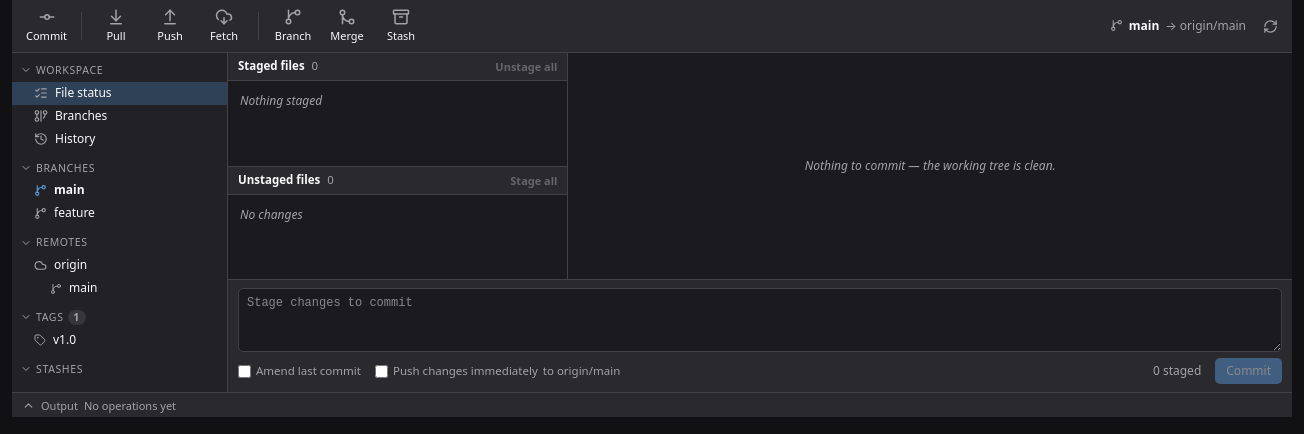
Test case: Repository view: Branches › opens from the sidebar as rails with labels, tip chips and the HEAD ring
The image size is (1304, 434).
Click the button "Branches".
click(120, 116)  # box x1=12 y1=105 x2=227 y2=128
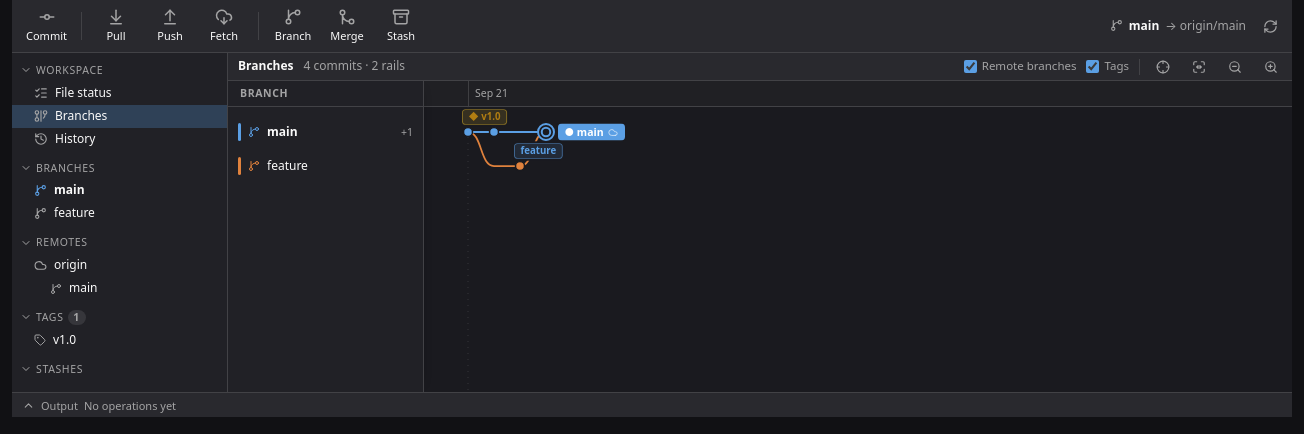
Now the element showing "feature" is shown, box x1=514 y1=143 x2=563 y2=159
